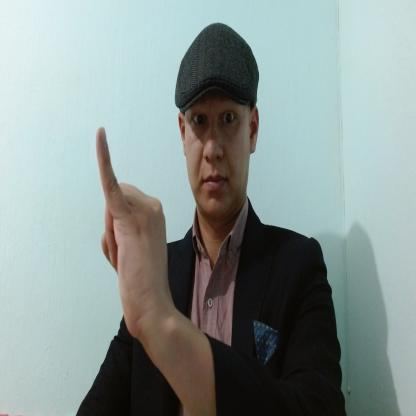I: (95, 126, 167, 332)
